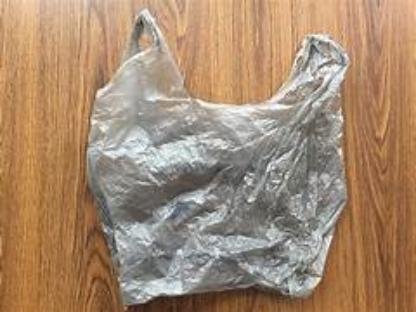Plastic Bag: (88, 10, 348, 304)
